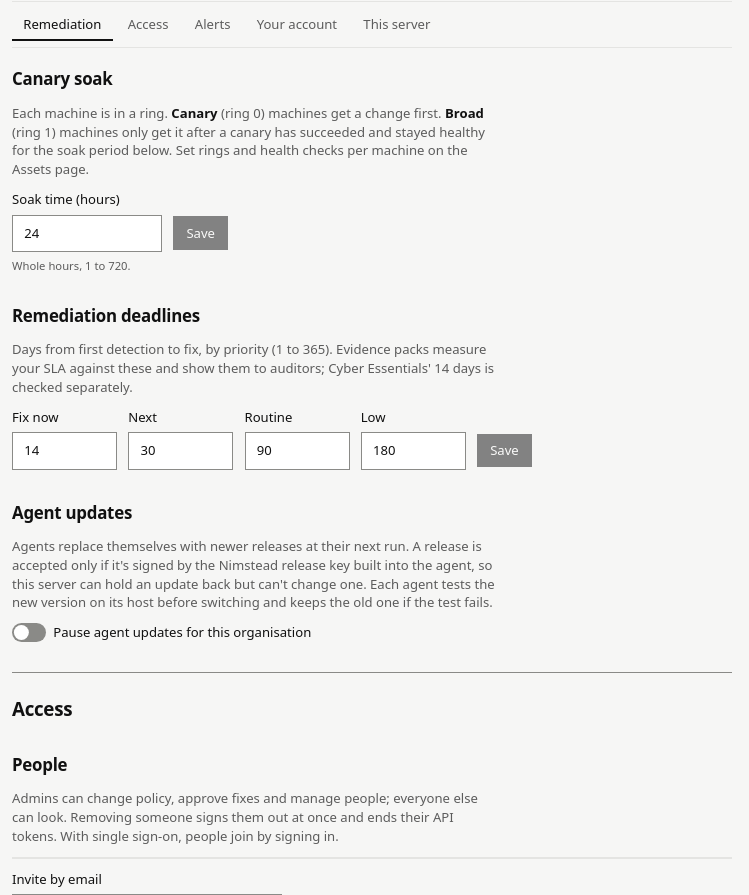
Scenario: saving one Settings section keeps what you typed in another
(page scrolled)
Step 1. Replace the text in the number field labelled "Next" with "21" → (181, 451), box [128, 432, 233, 470]
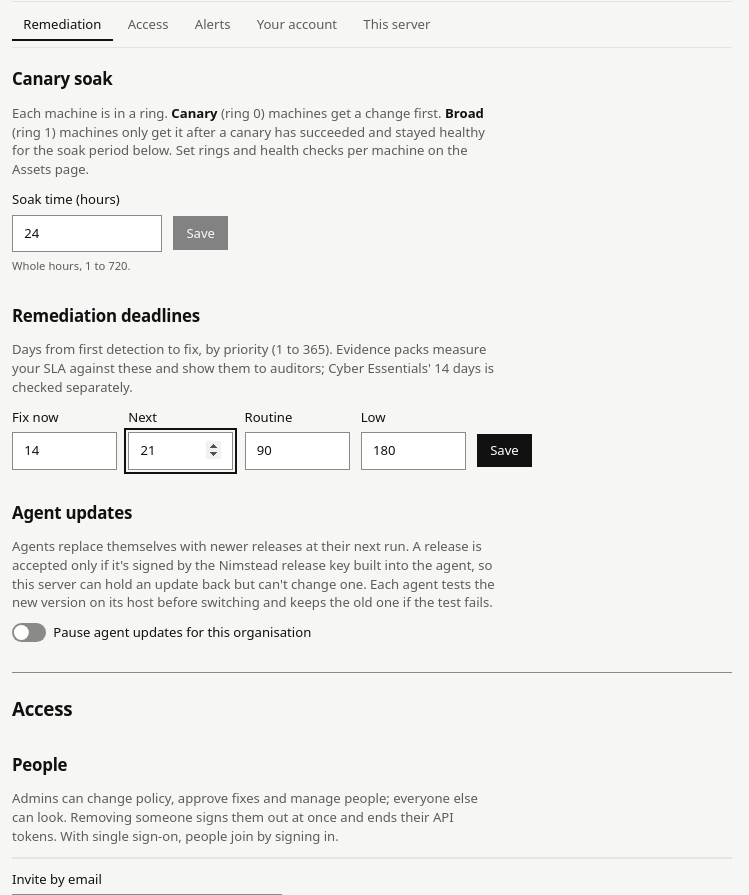
Step 2. Click the switch → (29, 633), box [12, 623, 46, 642]
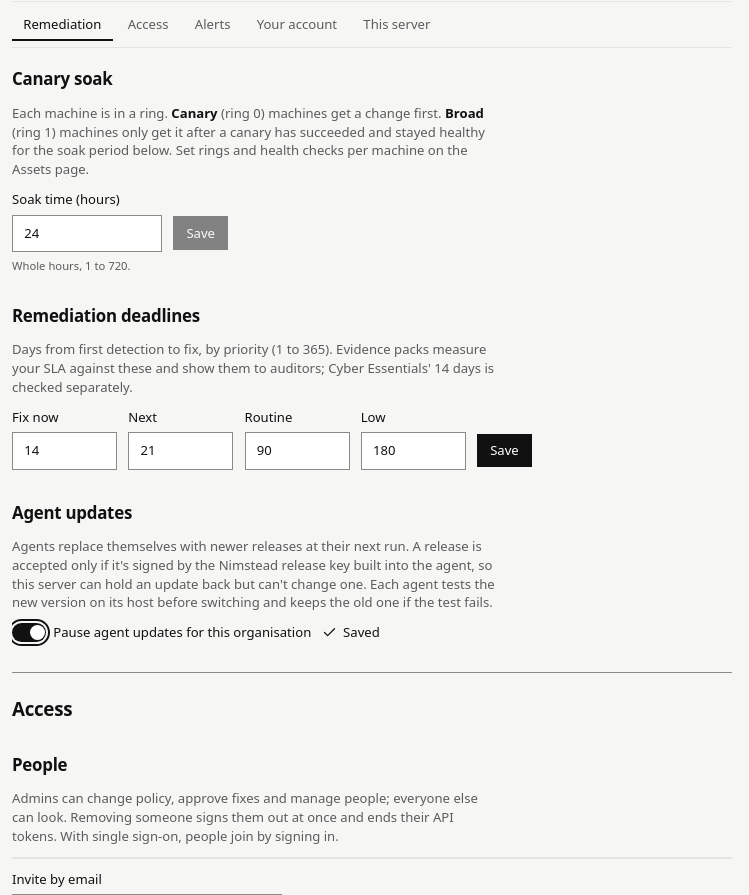
Check: the text "Saved" is shown, box [322, 623, 380, 642]
